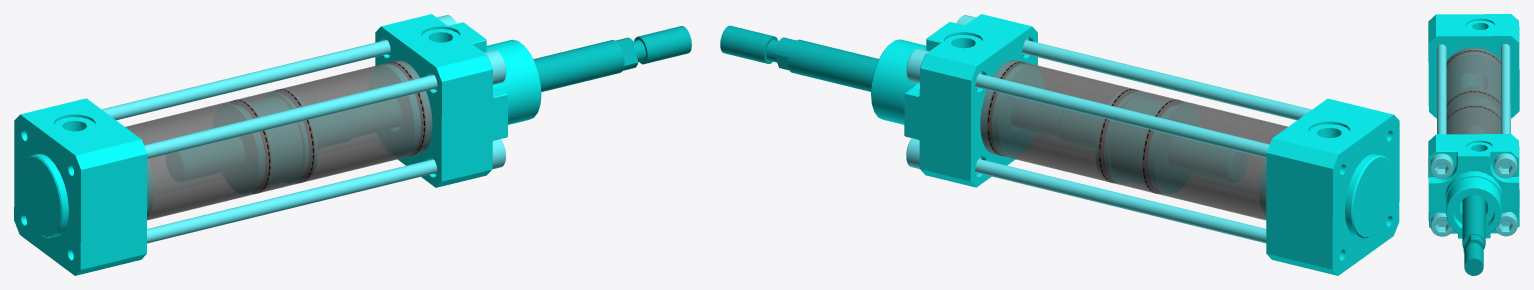
File: Assembly.glb
3 views of the same model, side by side, from view 1: azimuth 30°, elevation 25°; view 2: azimuth 150°, elevation 25°; view 3: azimuth 270°, elevation 25° (orthographic). The views are drawn at different scales.
Visible parts, largest first — view 1: Tube-1, Rear Plate-1, Front Plate-1, Slider Shaft-1, Shaft-1, Shaft-4, Shaft-2, O-Ring-3, O-Ring-2; view 2: Tube-1, Rear Plate-1, Front Plate-1, Slider Shaft-1, Shaft-2, Shaft-3, Shaft-1, O-Ring-3, O-Ring-2; view 3: Front Plate-1, Rear Plate-1, Tube-1, Slider Shaft-1, Shaft-2, Shaft-1, Shaft-3, Shaft-4, O-Ring-3, O-Ring-1, O-Ring-2.
Part boxes in pixels (left/top/right/bottom): Tube-1: left=125, top=60, right=432, bottom=220; Rear Plate-1: left=14, top=98, right=153, bottom=275; Front Plate-1: left=369, top=14, right=541, bottom=187; Slider Shaft-1: left=166, top=26, right=691, bottom=194; Shaft-1: left=144, top=49, right=506, bottom=158; Shaft-4: left=147, top=139, right=505, bottom=243; Shaft-2: left=102, top=15, right=456, bottom=120; O-Ring-3: left=230, top=99, right=270, bottom=193; O-Ring-2: left=275, top=89, right=314, bottom=182; Tube-1: left=980, top=60, right=1287, bottom=220; Rear Plate-1: left=1259, top=98, right=1399, bottom=275; Front Plate-1: left=871, top=14, right=1043, bottom=187; Slider Shaft-1: left=720, top=25, right=1247, bottom=194; Shaft-2: left=906, top=48, right=1269, bottom=158; Shaft-3: left=906, top=138, right=1266, bottom=243; Shaft-1: left=957, top=15, right=1311, bottom=120; O-Ring-3: left=1142, top=99, right=1182, bottom=193; O-Ring-2: left=1098, top=89, right=1137, bottom=182; Front Plate-1: left=1428, top=134, right=1519, bottom=238; Rear Plate-1: left=1428, top=14, right=1519, bottom=118; Tube-1: left=1446, top=47, right=1500, bottom=134; Slider Shaft-1: left=1447, top=87, right=1499, bottom=275; Shaft-2: left=1494, top=44, right=1517, bottom=178; Shaft-1: left=1430, top=44, right=1453, bottom=178; Shaft-3: left=1495, top=104, right=1517, bottom=236; Shaft-4: left=1430, top=212, right=1453, bottom=236; O-Ring-3: left=1447, top=91, right=1500, bottom=105; O-Ring-1: left=1447, top=50, right=1500, bottom=64; O-Ring-2: left=1446, top=106, right=1500, bottom=119.
Bounding box in the file's own units: 0.2626 × 0.0473 × 0.0473.
